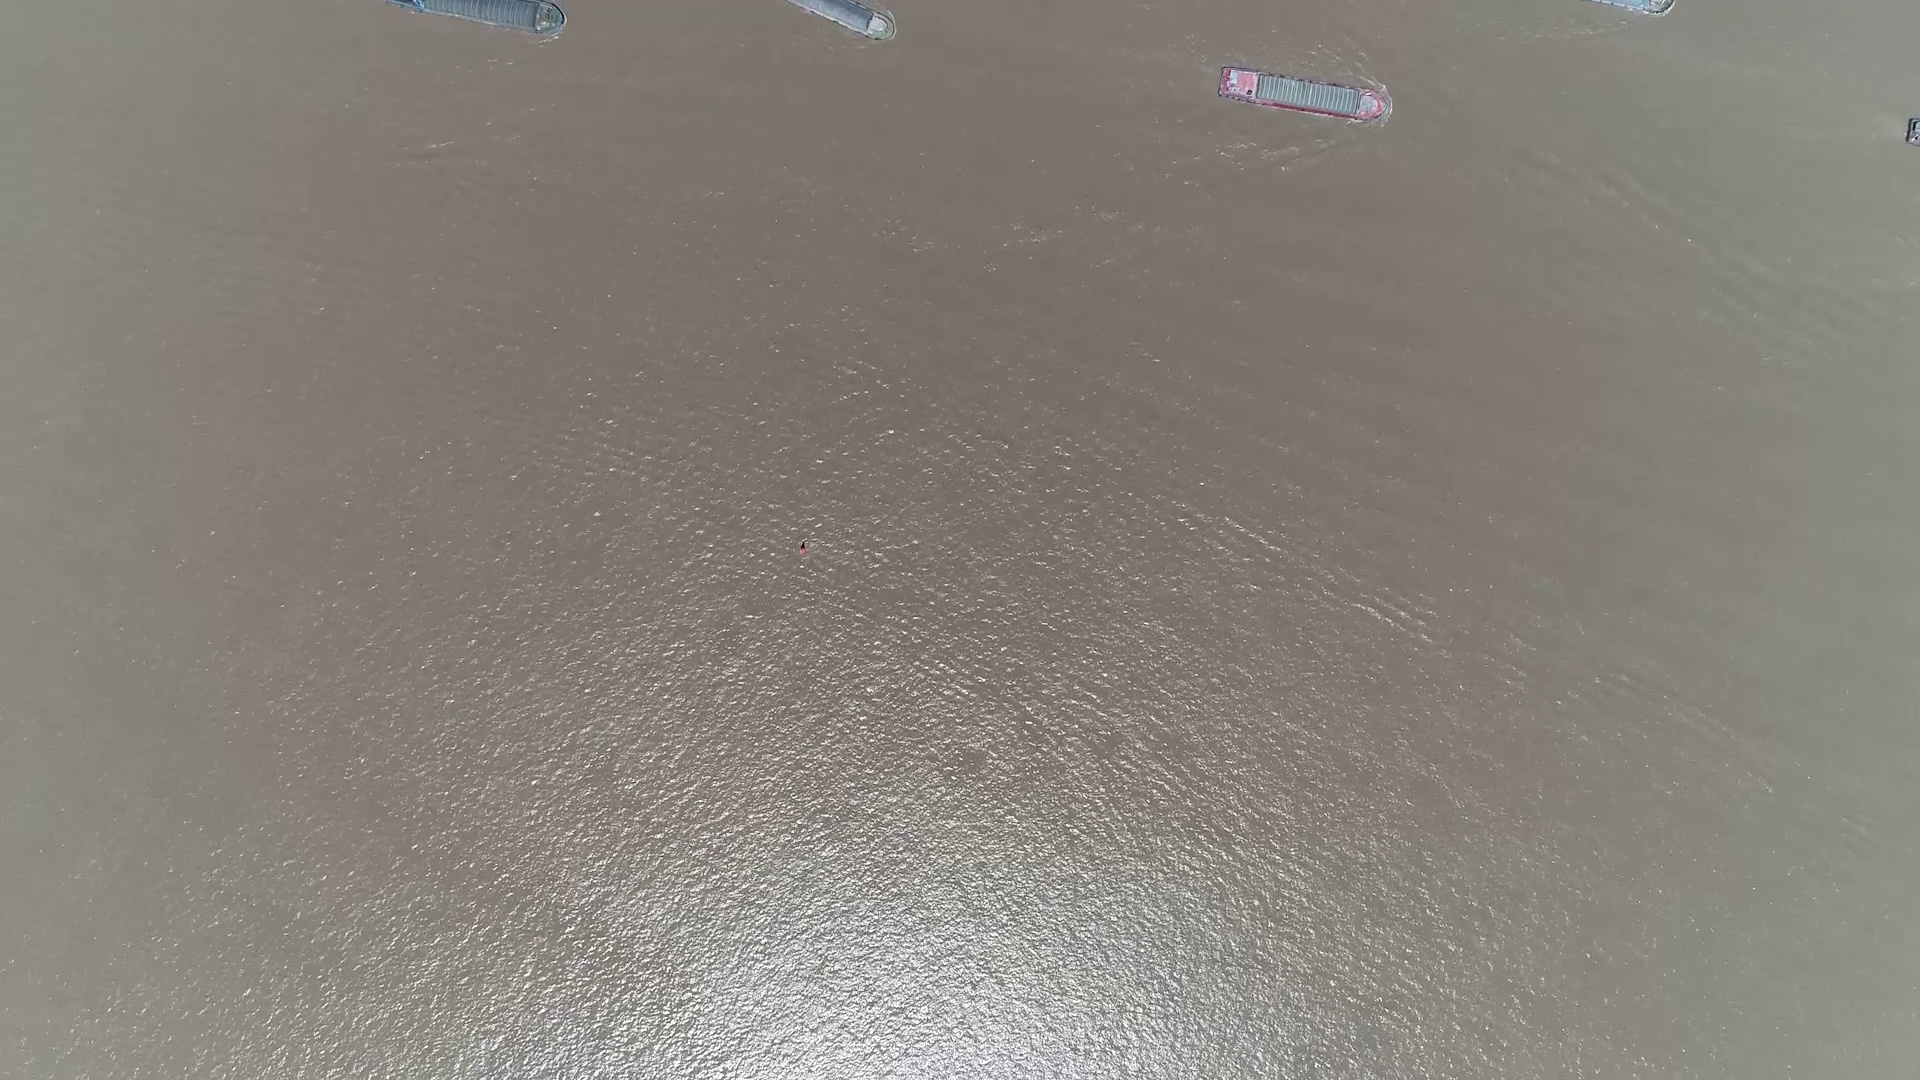ship: (1216, 69, 1390, 123), (386, 1, 564, 32), (790, 0, 895, 45), (1597, 0, 1668, 13)
